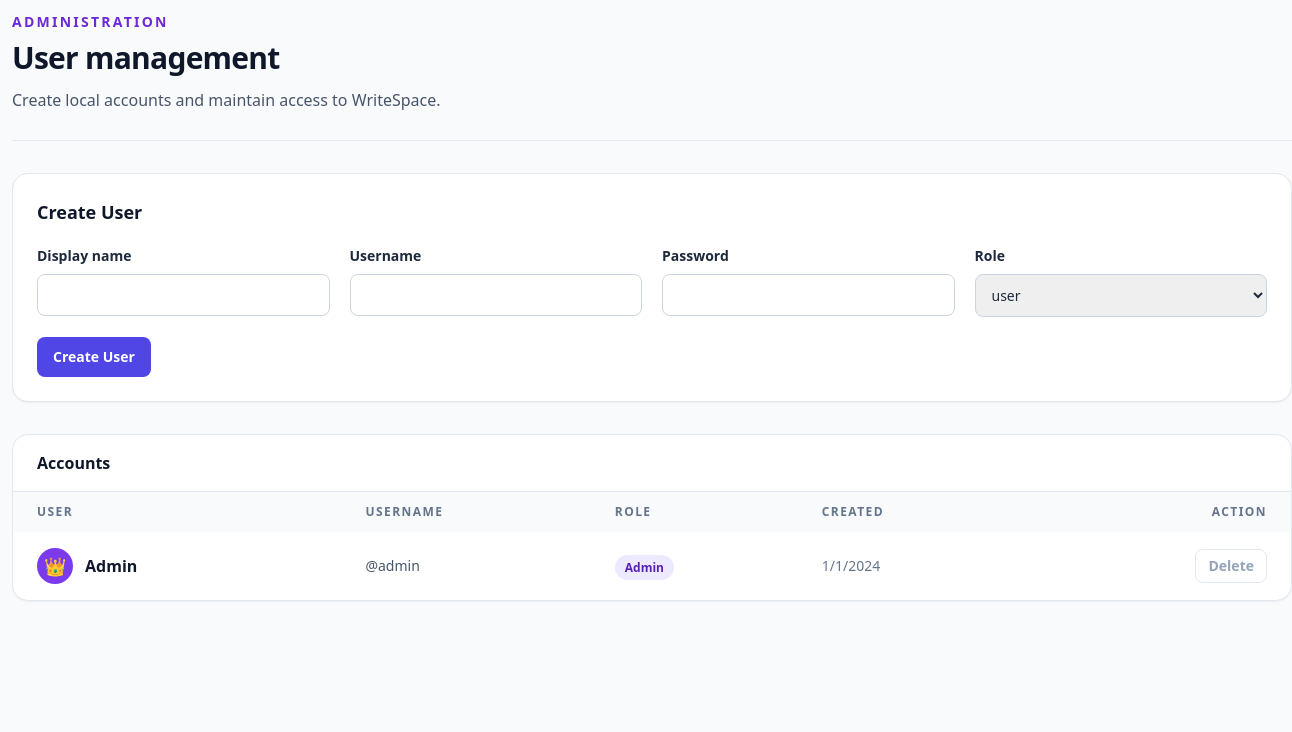
Test: UserManagement › rejects incomplete forms and usernames already used by the default admin
Click the button "Create User".
click(94, 357)  # box [37,337,151,377]
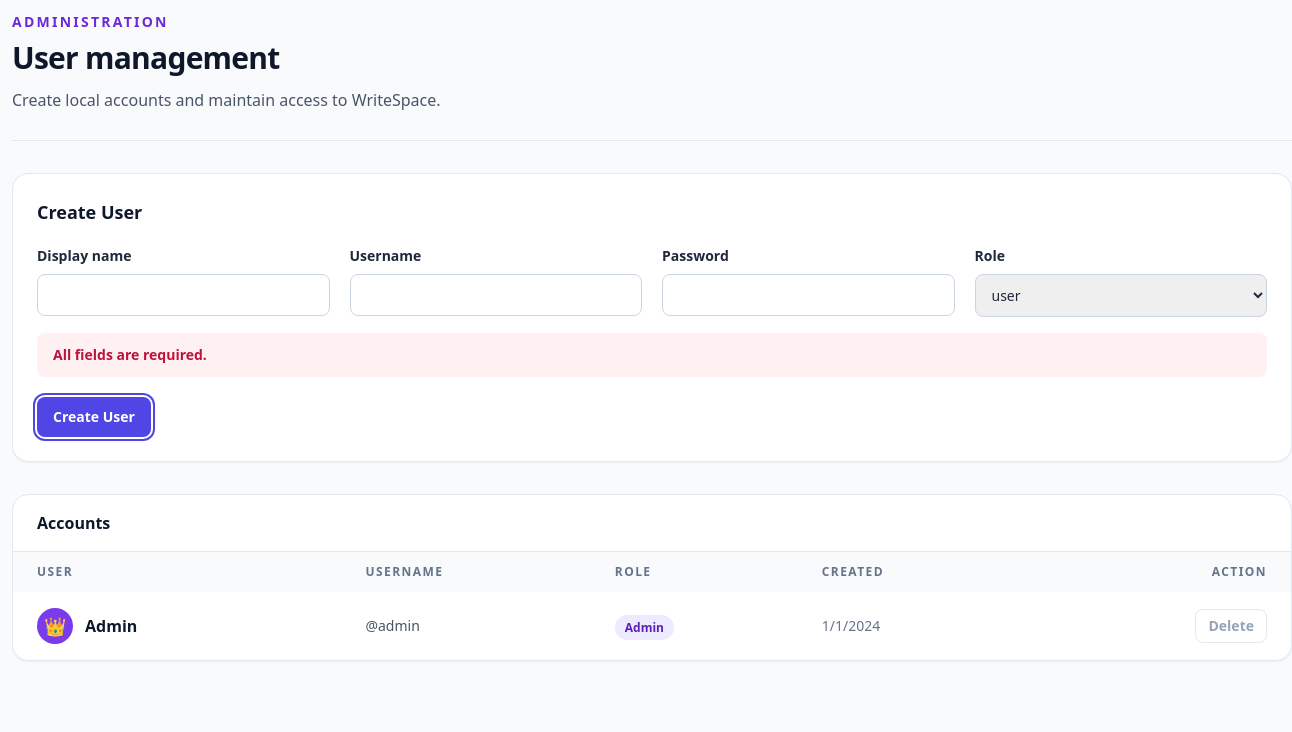
expect the message reads "All fields are required.": met, box [53,345,207,364]
Type "Imposter" into the field labelled "Display name".
click(183, 295); type("Imposter")  # box [37,274,330,316]
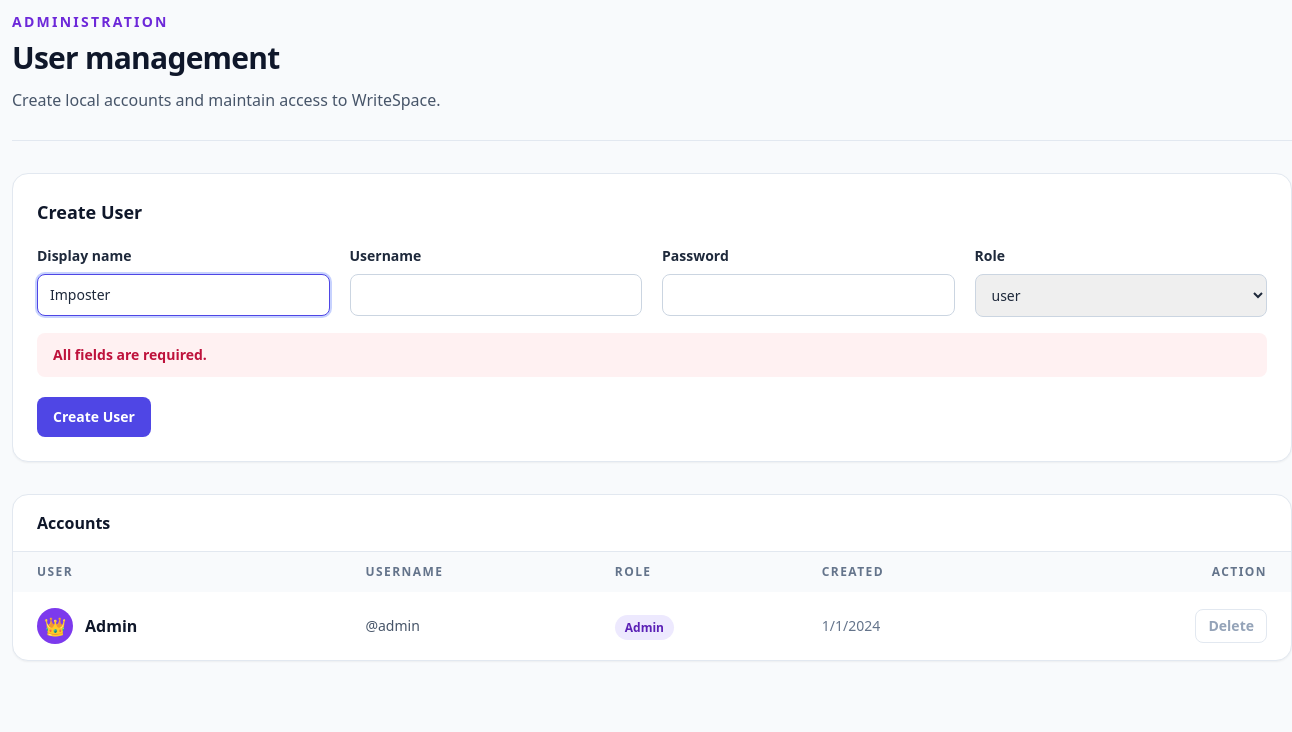
Type "admin" into the field labelled "Username".
click(496, 295); type("admin")  # box [350,274,642,316]
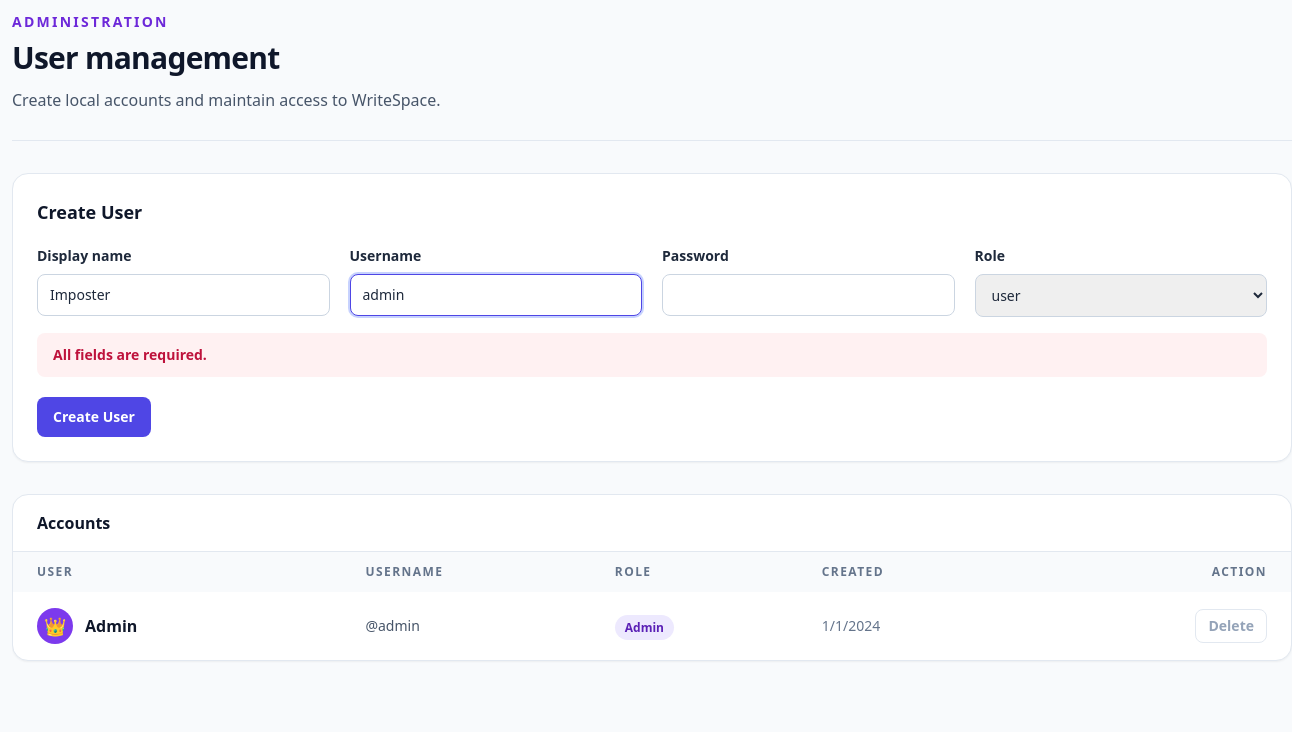
Type "secret" into the password field labelled "Password".
click(808, 295); type("secret")  # box [662,274,954,316]
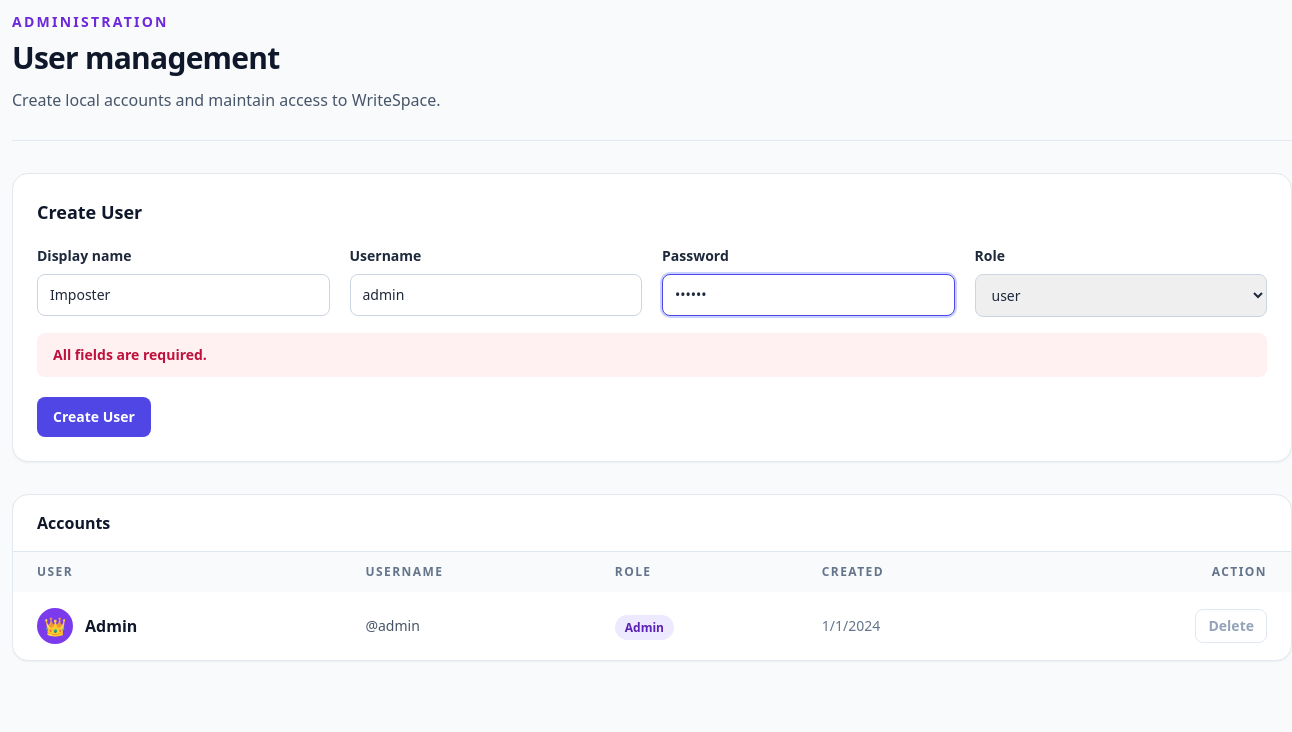
Click the button "Create User".
click(94, 417)  # box [37,397,151,437]
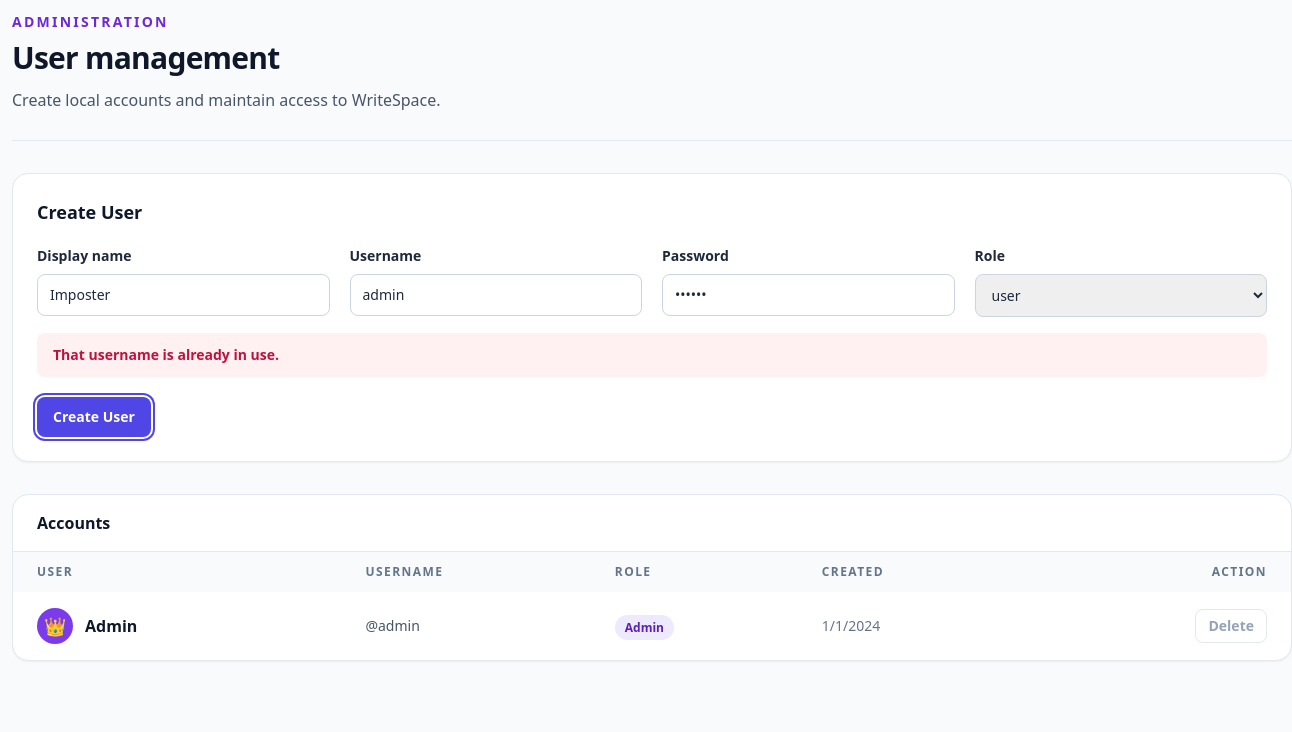
expect the message reads "That username is already in use.": met, box [53,345,279,364]
